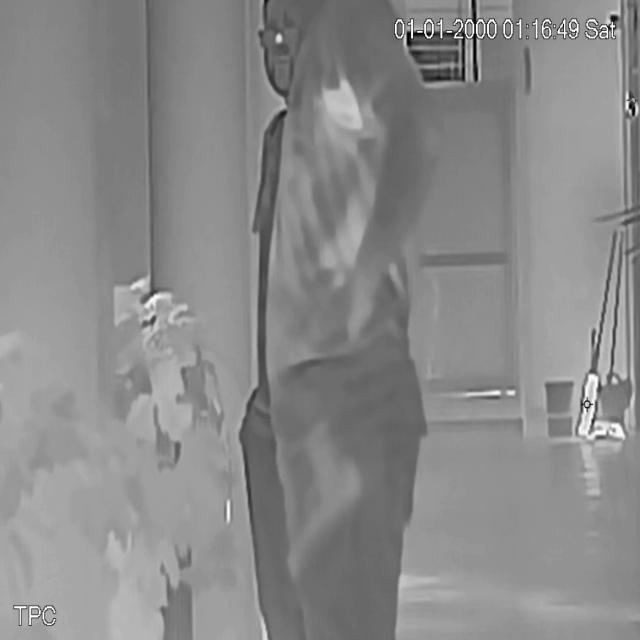Weapon: (275, 418, 376, 595)
